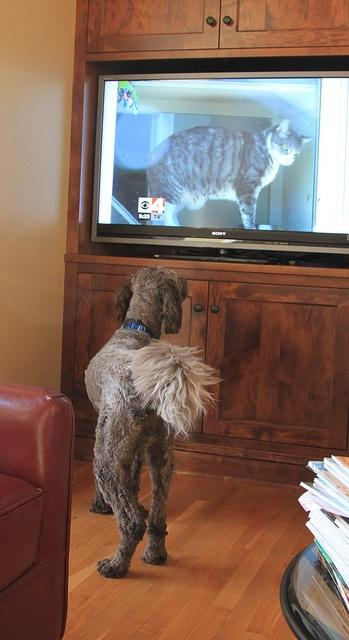AIO PC-Monitor-TV: (89, 71, 348, 264)
